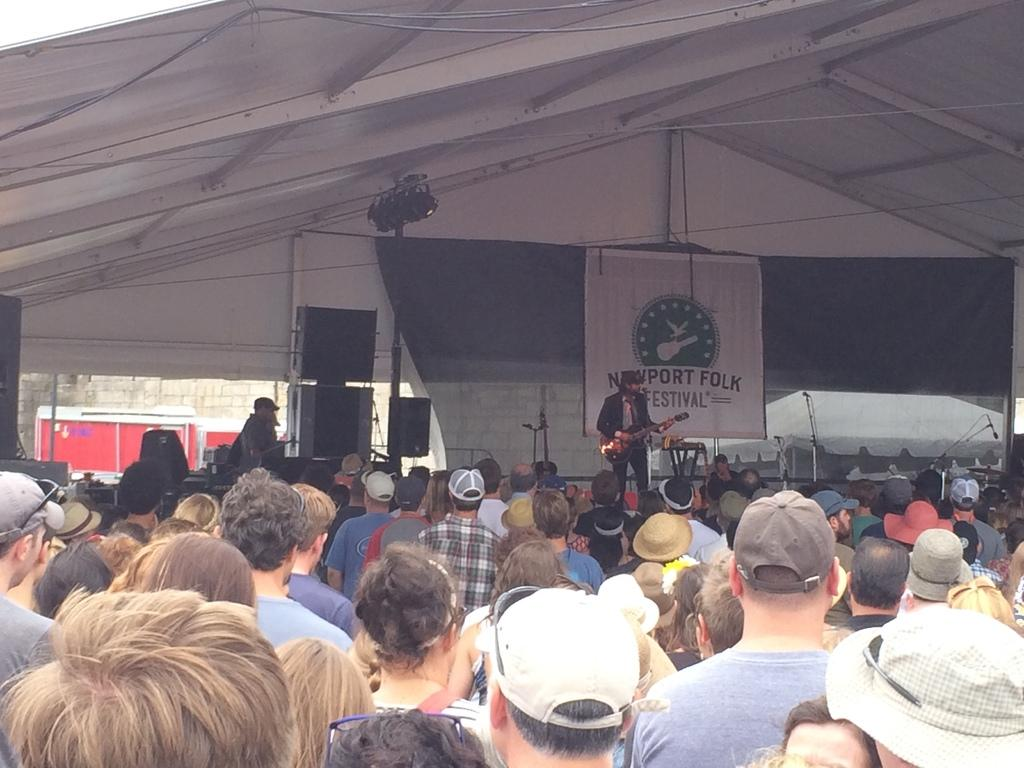Hat: (821, 604, 1023, 766), (471, 586, 668, 728), (732, 486, 838, 594), (900, 524, 975, 600), (625, 610, 678, 706), (0, 466, 64, 544), (598, 574, 660, 630), (884, 500, 957, 546), (630, 511, 692, 562), (59, 501, 103, 539), (810, 490, 862, 516), (446, 468, 486, 500), (500, 498, 538, 531), (950, 472, 981, 506), (360, 470, 394, 500), (254, 395, 280, 410), (621, 368, 646, 383)
